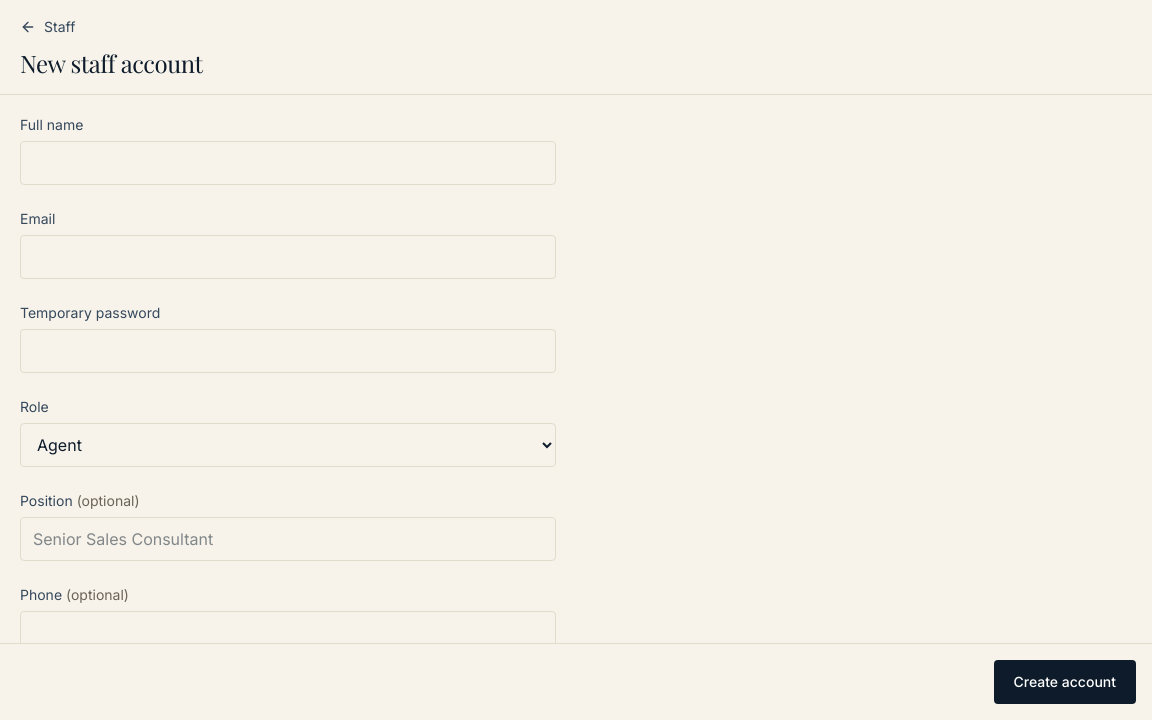
it: StaffForm › requires name, email and password on create
Click the button "Create account": (1065, 682) [994, 660, 1136, 704]
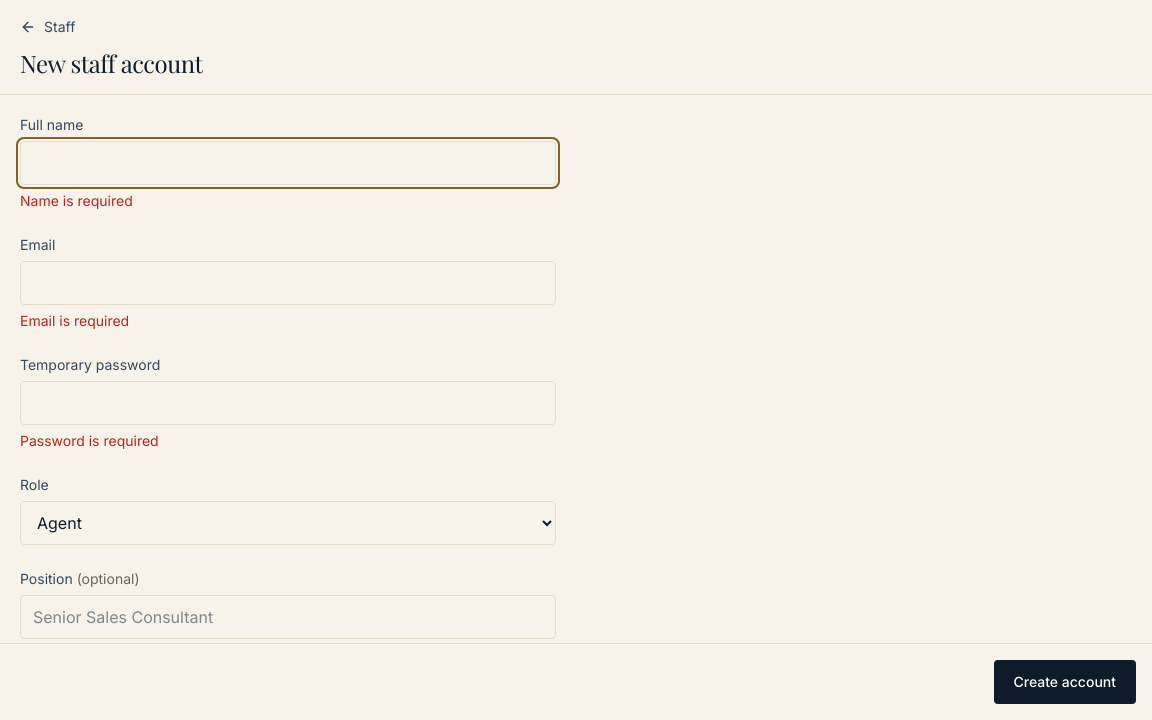
Result: the text "Name is required" is shown at [20, 192, 133, 209]
Result: the text "Email is required" is shown at [20, 312, 129, 329]
Result: the text "Password is required" is shown at [20, 432, 159, 449]
